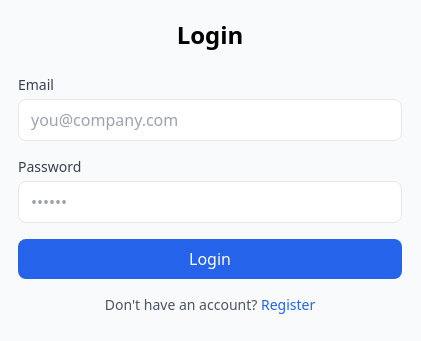
Test: LoginPage › shows validation error for short password
This screenshot has width=421, height=341.
Type "test@test.com" into the field with placeholder "you@company.com" at (210, 120), box [18,99,402,141]
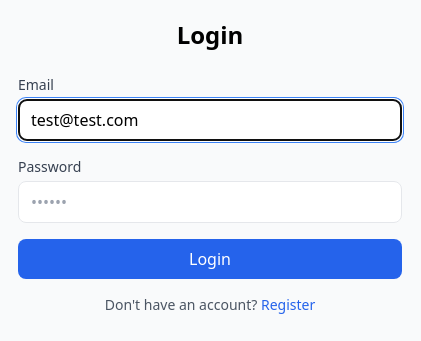
Click the button "Login" at (210, 259), box [18,239,402,279]
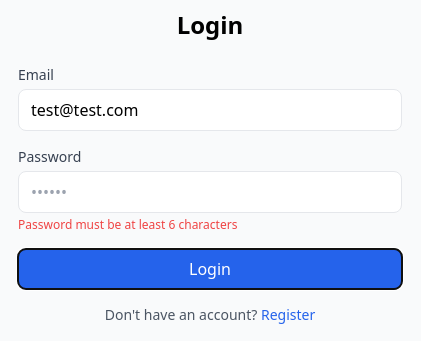
Now the text "Password must be at least 6 characters" is shown, box [18,216,237,233]
